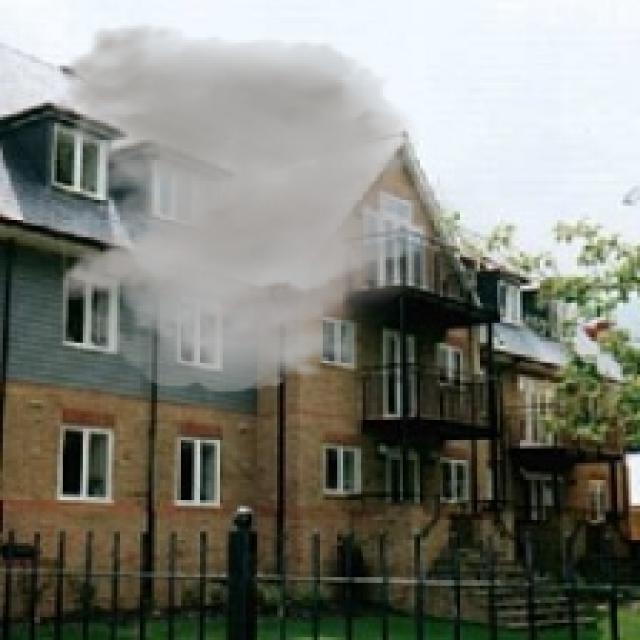smoke: (49, 23, 472, 391)
